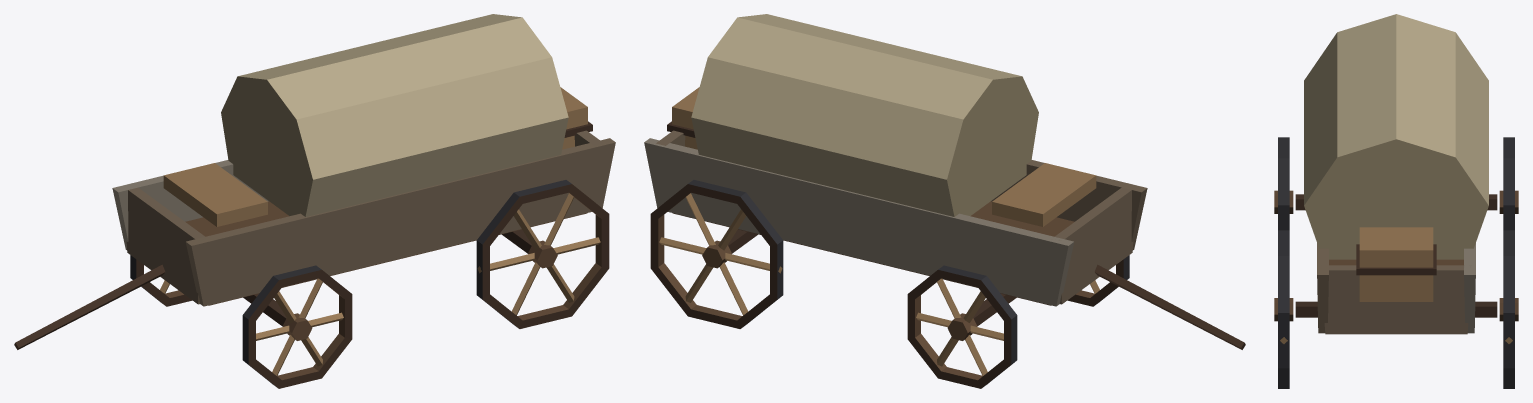
File: wagon.glb
3 renders of one model, left to right at view 1: azimuth 30°, elevation 25°; view 2: azimuth 150°, elevation 25°; view 3: azimuth 270°, elevation 25°, orthographic.
Visible parts, largest first — view 1: wagon; view 2: wagon; view 3: wagon.
Part boxes in pixels (x1,y1,x2,y2): wagon: [14, 14, 615, 388]; wagon: [644, 14, 1245, 388]; wagon: [1274, 14, 1518, 388].
Size of the model in its own units: 5.49 by 2.38 by 2.06.
